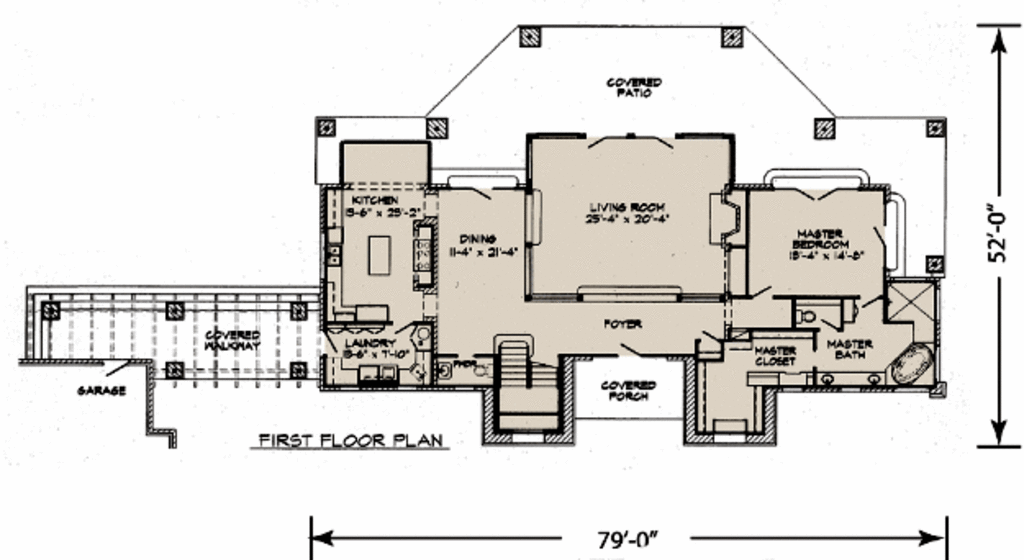kitchen_bar: (318, 279, 408, 344)
large_sink: (794, 302, 819, 330)
small_sink: (816, 363, 891, 389)
stairs: (490, 327, 566, 430)
twin_sink: (317, 239, 354, 274)
window: (576, 277, 687, 306)
